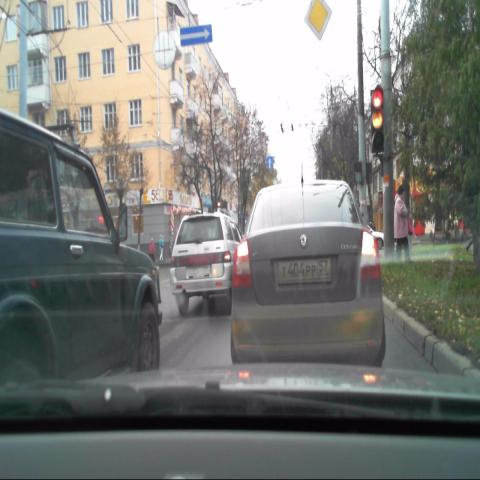5_7_1: (180, 24, 212, 45)
